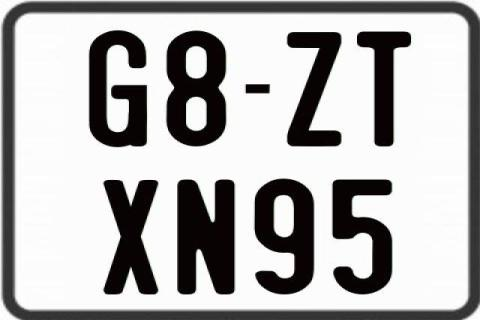0: (251, 178, 315, 298), (330, 178, 396, 294), (165, 29, 227, 149)
G: (89, 28, 153, 148)
N: (174, 178, 237, 298)
T: (354, 30, 411, 146)
X: (102, 180, 156, 296)
Z: (284, 31, 339, 151)
